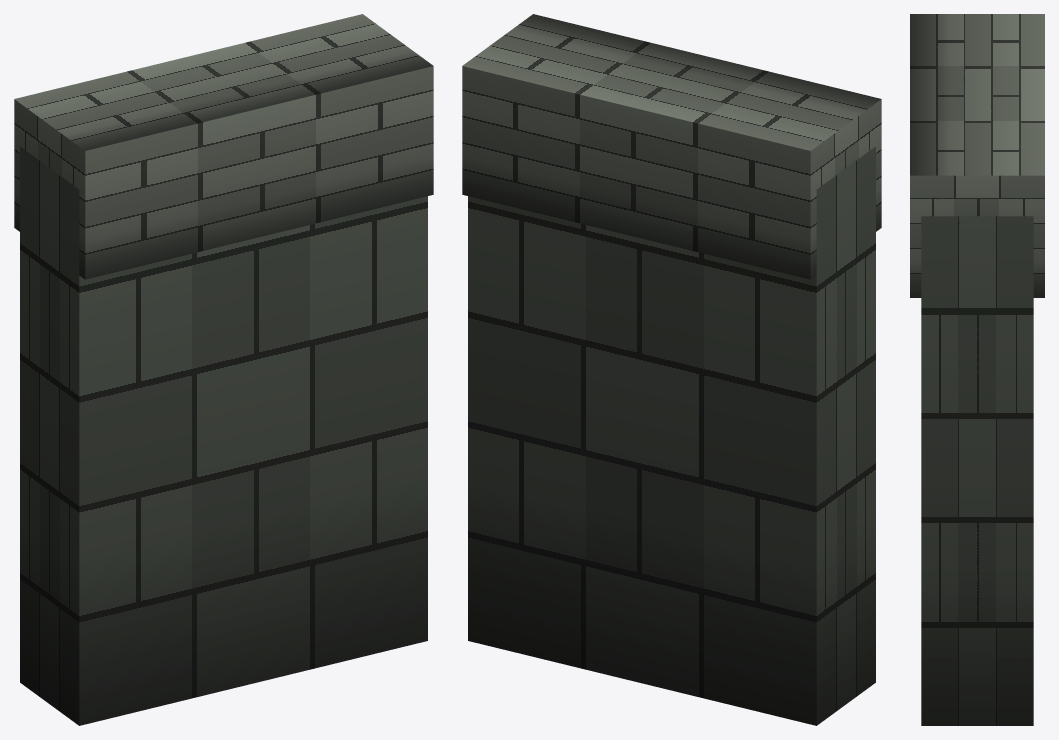
The model's file is gravestone.glb.
3 views of the same model, side by side, from view 1: azimuth 30°, elevation 25°; view 2: azimuth 150°, elevation 25°; view 3: azimuth 270°, elevation 25° (orthographic). The views are drawn at different scales.
Visible parts, largest first — view 1: gravestone; view 2: gravestone; view 3: gravestone.
Part boxes in pixels (left/top/right/bottom): gravestone: left=14, top=14, right=433, bottom=725; gravestone: left=462, top=14, right=881, bottom=725; gravestone: left=910, top=14, right=1044, bottom=725.
Size of the model in its own units: 0.34 by 0.54 by 0.12.
Materials: 1 (1 with a texture image).
